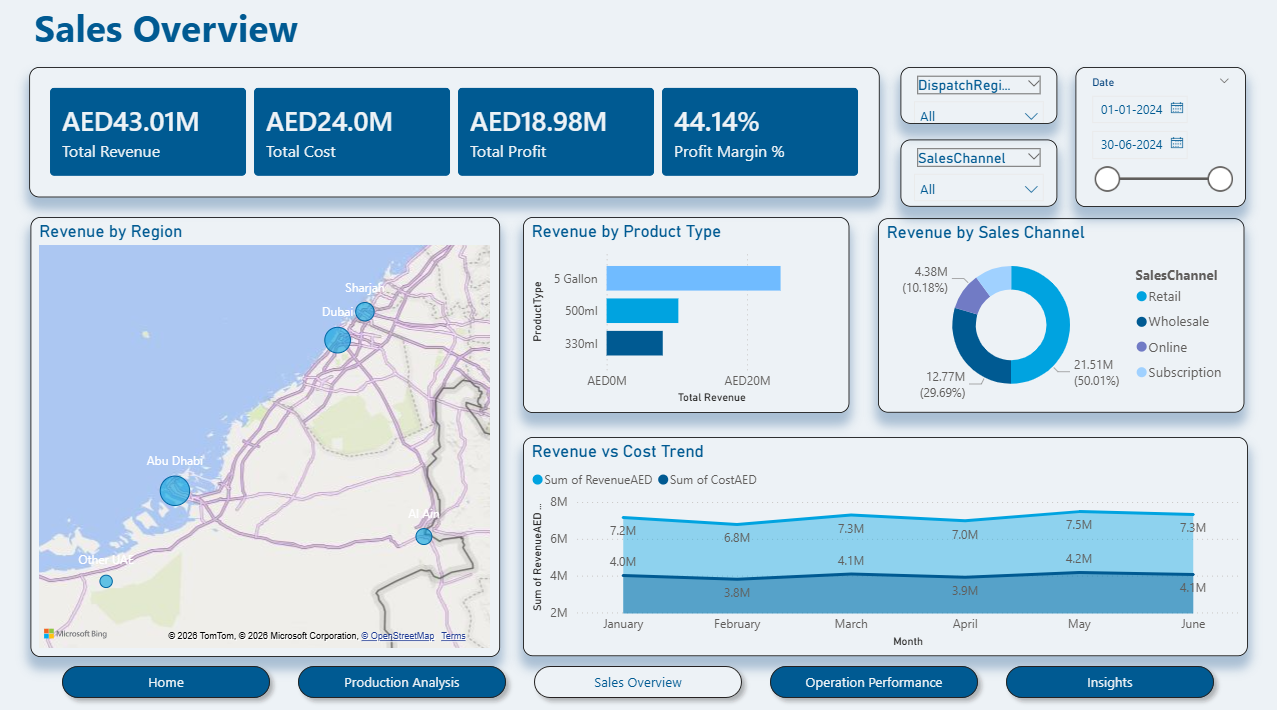

What the dashboard file says about the page in this screenshot:
{"tool":"powerbi","page":{"name":"Sales Overview","canvas":[1280,720],"ordinal":2},"visuals":[{"type":"textbox","box":[31.4,0,291.4,60],"z":0},{"type":"slicer","fields":{"Values":["Rawda_production_sales.DispatchRegion"]},"box":[902.9,70,157.1,57.1],"z":1000},{"type":"slicer","fields":{"Values":["Rawda_production_sales.SalesChannel"]},"box":[902.9,142.9,157.1,67.1],"z":2000},{"type":"areaChart","title":"Revenue vs Cost Trend","fields":{"Category":["Rawda_production_sales.Date.Variation.Date Hierarchy.Month"],"Y":["Sum(Rawda_production_sales.RevenueAED)","Sum(Rawda_production_sales.CostAED)"]},"box":[525,440.3,725,219.4],"z":3000},{"type":"clusteredBarChart","title":"Revenue by Product Type","fields":{"Category":["Rawda_production_sales.ProductType"],"Y":["Rawda_production_sales.Total Revenue"]},"box":[525,219.4,326.4,195.8],"z":4000},{"type":"map","title":"Revenue by Region","fields":{"Category":["Rawda_production_sales.DispatchRegion"],"Size":["Rawda_production_sales.Total Revenue"]},"box":[31.9,219.4,469.4,440.3],"z":5000},{"type":"donutChart","title":"Revenue by Sales Channel","fields":{"Category":["Rawda_production_sales.SalesChannel"],"Y":["Sum(Rawda_production_sales.RevenueAED)"]},"box":[880.6,220.8,366.7,194.4],"z":6000},{"type":"slicer","fields":{"Values":["Rawda_production_sales.Date"]},"box":[1077.1,70,170,140],"z":7000},{"type":"cardVisual","fields":{"Data":["Rawda_production_sales.Total Revenue","Rawda_production_sales.Total Cost","Rawda_production_sales.Total Profit","Rawda_production_sales.Profit Margin %"]},"box":[31.4,70,850,130],"z":8000},{"type":"pageNavigator","box":[54.7,660,1170.7,50.7],"z":9000}]}

Visuals, with their boxes in screenshot pixels (x1, y1, x2, y2), scaled from the page's 1280x720 canvas onto the 1277x710 screenshot:
textbox: [left=31, top=0, right=322, bottom=59]
slicer - Rawda_production_sales.DispatchRegion: [left=901, top=69, right=1058, bottom=125]
slicer - Rawda_production_sales.SalesChannel: [left=901, top=141, right=1058, bottom=207]
"Revenue vs Cost Trend" areaChart: [left=524, top=434, right=1247, bottom=651]
"Revenue by Product Type" clusteredBarChart: [left=524, top=216, right=849, bottom=409]
"Revenue by Region" map: [left=32, top=216, right=500, bottom=651]
"Revenue by Sales Channel" donutChart: [left=879, top=218, right=1244, bottom=409]
slicer - Rawda_production_sales.Date: [left=1075, top=69, right=1244, bottom=207]
cardVisual - Rawda_production_sales.Total Revenue x Rawda_production_sales.Total Cost: [left=31, top=69, right=879, bottom=197]
pageNavigator: [left=55, top=651, right=1223, bottom=701]
